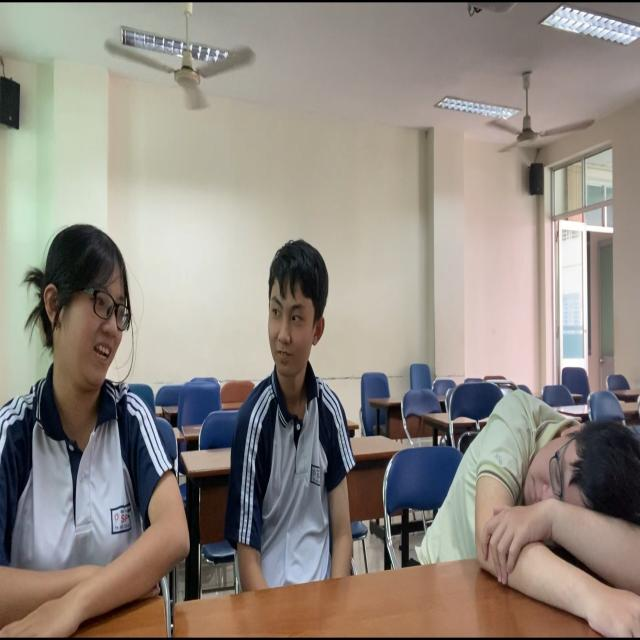sleep: (418, 371, 640, 640)
